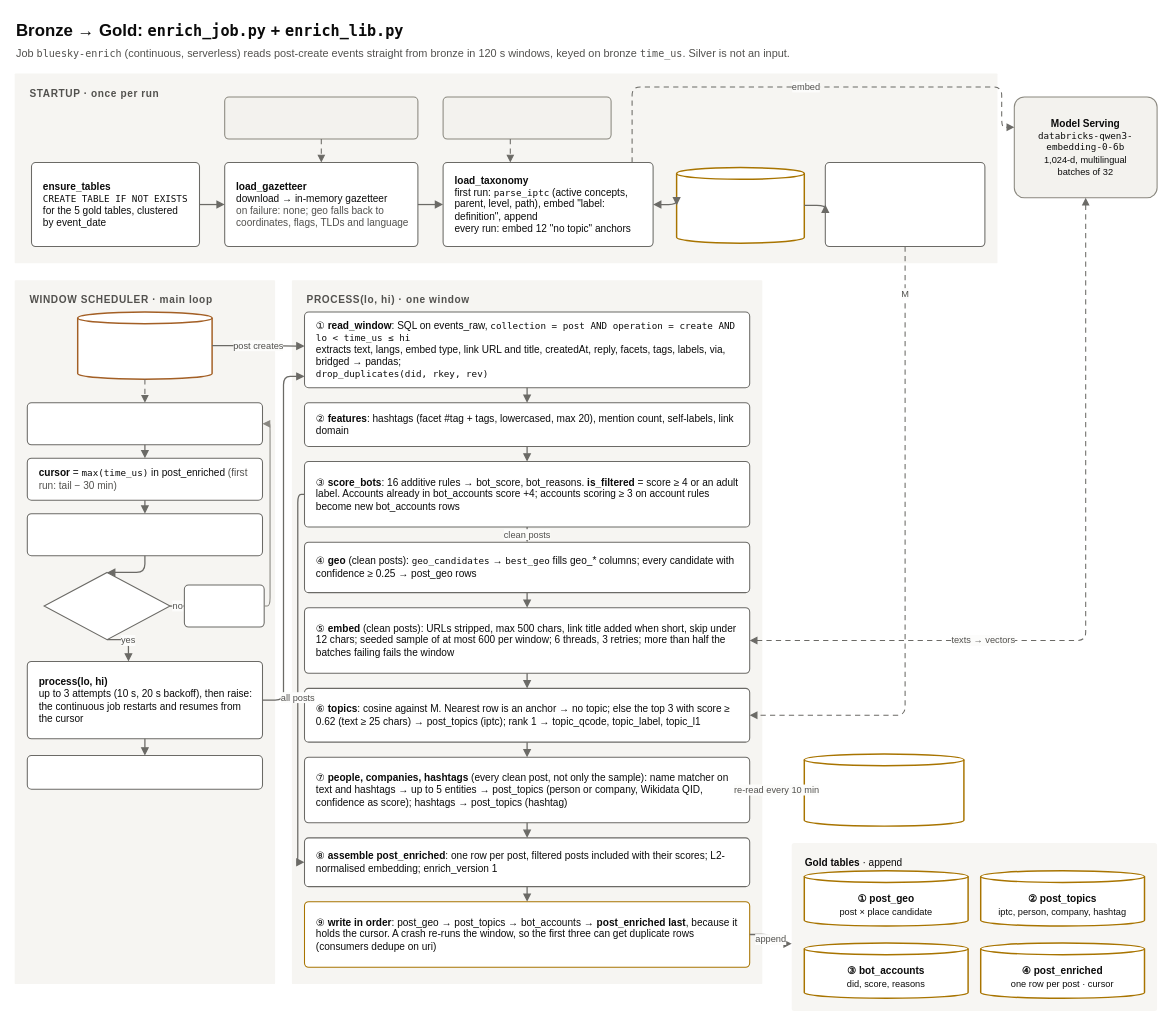
This 1172x1025 diagram has some shape labels left out. Here are the shapes that lost their labels. From the top down, the centre of each, then its label:
the point at 321,117: GeoNames cities15000, countryInfo, admin1
the point at 526,117: IPTC Media Topics JSON, all languages
the point at 740,205: topic_taxonomy concepts + embeddings
the point at 904,204: topic matrix M levels 1–3 concepts + 12 anchors, L2-normalised
the point at 144,345: events_raw bronze
the point at 144,423: tail = max(time_us) of bronze posts, today and yesterday
the point at 144,534: lo = cursor hi = min(tail − 60 s, lo + 120 s)
the point at 106,606: hi > lo?
the point at 223,605: sleep 20 s
the point at 144,772: log lag and window stats, loop
the point at 883,789: taxonomy_people taxonomy_companies weekly, from Wikipedia + Wikidata
